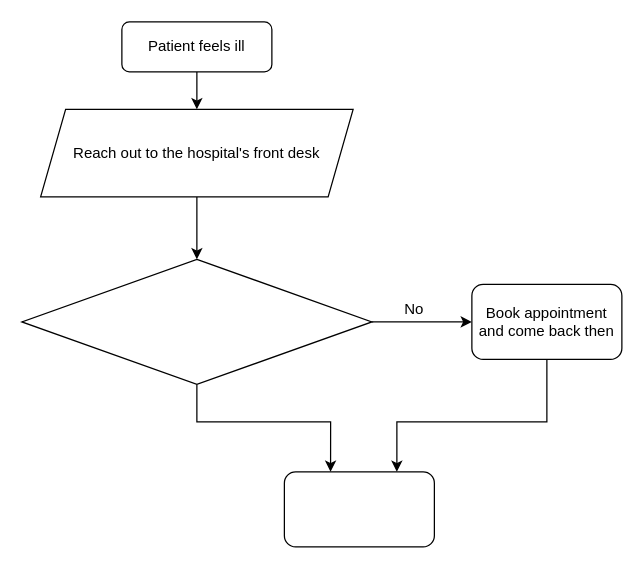
Some shapes in this 644 by 569 pixel diagram are drawn without their labels. The centre of each missing label's shape, as x and y in pixels:
Can he book an appointment right now?: point (196, 321)
Proceed to waiting room: point (358, 509)
